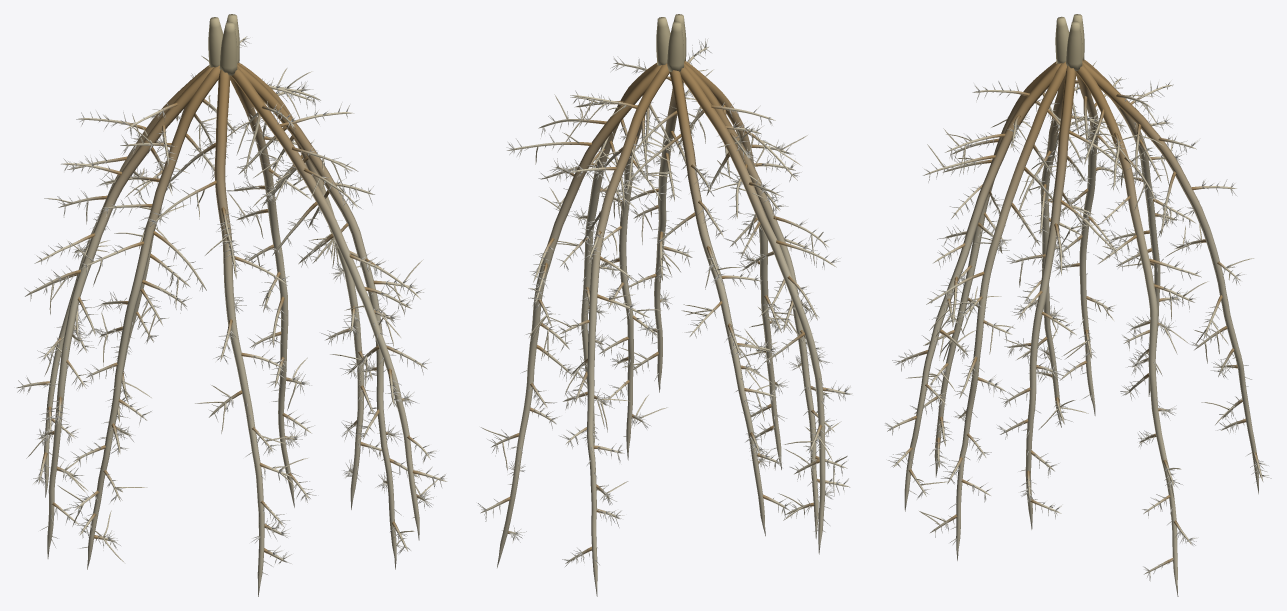
Rendered from roots.glb.
The picture shows the model from 3 angles, left to right: view 1: azimuth 30°, elevation 25°; view 2: azimuth 150°, elevation 25°; view 3: azimuth 270°, elevation 25°; orthographic projection. The views are drawn at different scales.
Parts seen in each view (by area): view 1: roots; view 2: roots; view 3: roots.
Part boxes in pixels (left/top/right/bottom): roots: left=16, top=14, right=447, bottom=596; roots: left=478, top=14, right=852, bottom=596; roots: left=885, top=14, right=1271, bottom=596.
Bounding box in the file's own units: 0.6744 × 1.09 × 0.7391.
